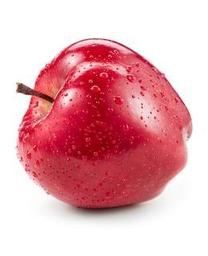apple: (16, 37, 193, 209)
